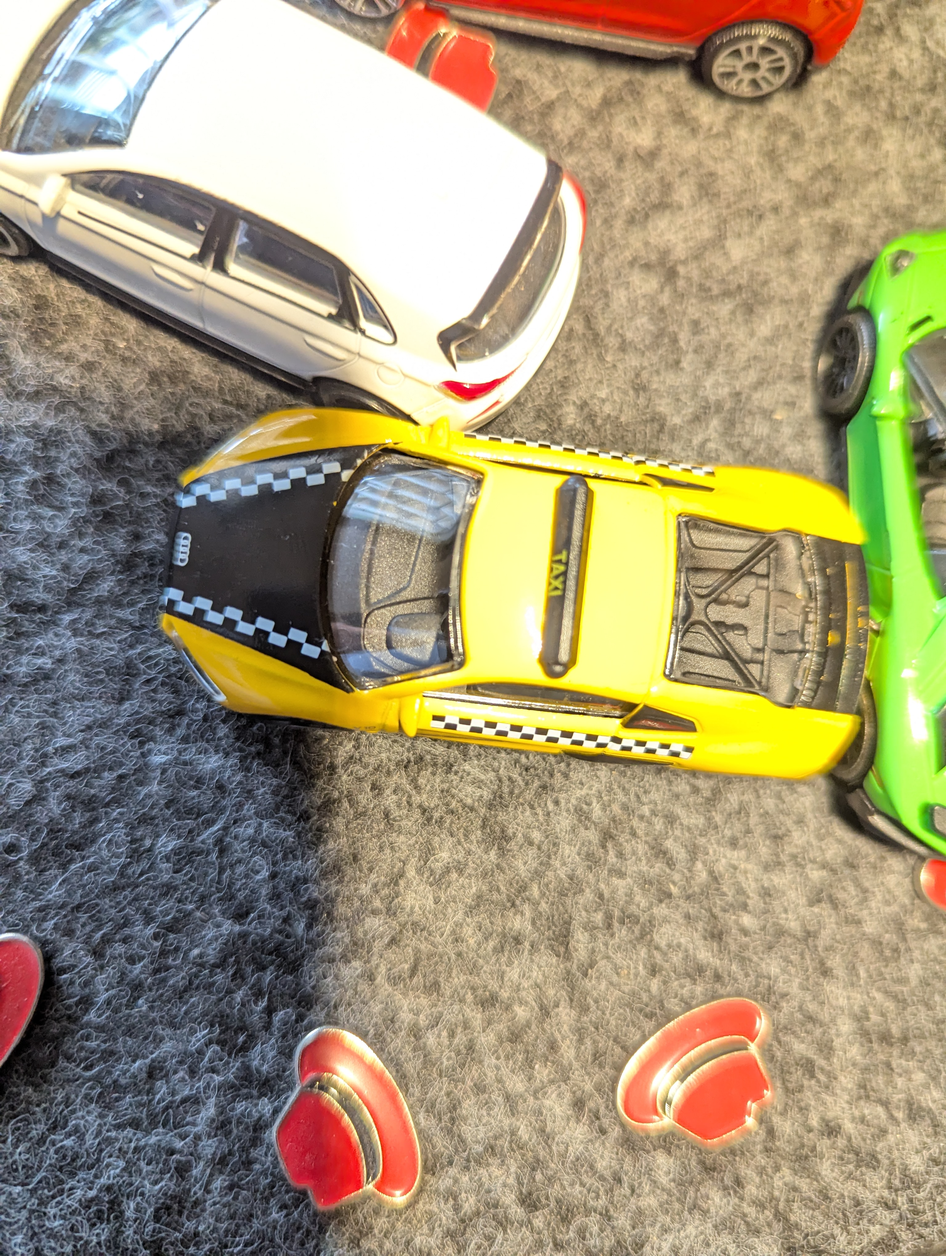Car: (138, 363, 881, 834), (0, 0, 609, 425), (791, 192, 946, 892)
Red-Hat: (250, 987, 443, 1226), (585, 966, 791, 1165), (355, 0, 501, 149)
